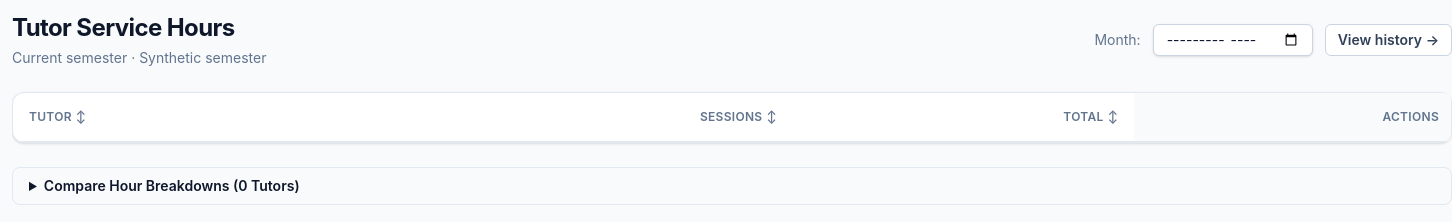
Test: keeps the en month filter native, labelled and reversible beside its history link
Step 1. Type "2026-10" into the field labelled "Month:" → (1233, 40), box [1153,24,1313,56]
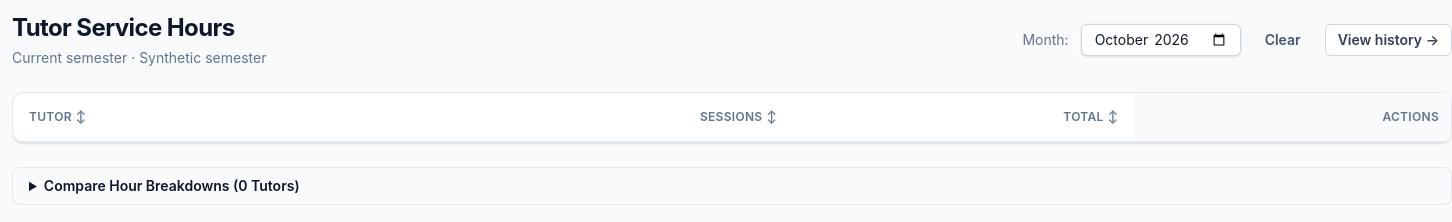
Step 2. Click the button "Clear" → (1283, 40), box [1253,24,1313,56]
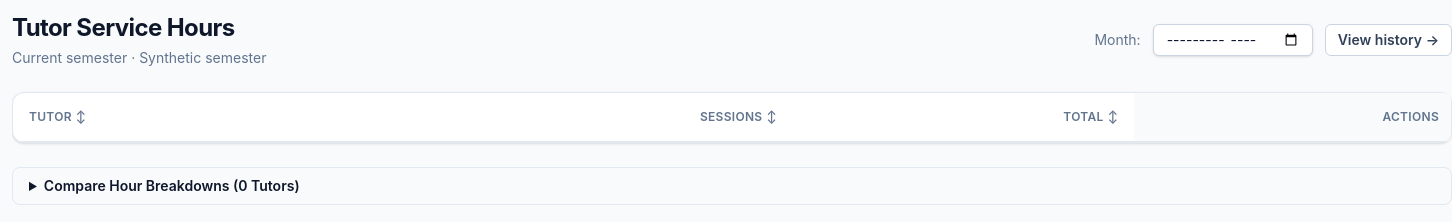
Now the field labelled "Month:" is empty, box [1153,24,1313,56]
